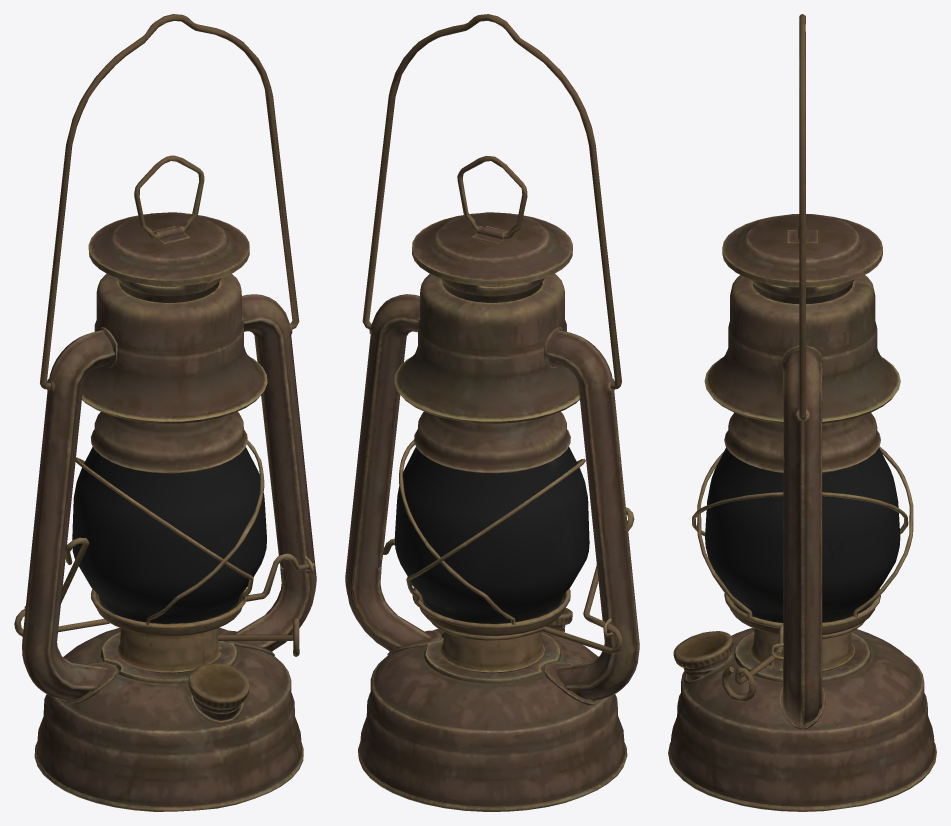
Rendered from Lantern_01.glb.
3 views of the same model, side by side, from view 1: azimuth 30°, elevation 25°; view 2: azimuth 150°, elevation 25°; view 3: azimuth 270°, elevation 25° (orthographic).
Parts seen in each view (by area): view 1: Lantern_01, Lantern_01_glass; view 2: Lantern_01, Lantern_01_glass; view 3: Lantern_01, Lantern_01_glass.
Part boxes in pixels (<box>): Lantern_01: <box>14,14,316,811</box>; Lantern_01_glass: <box>72,446,266,623</box>; Lantern_01: <box>345,14,639,811</box>; Lantern_01_glass: <box>394,447,589,623</box>; Lantern_01: <box>668,14,936,811</box>; Lantern_01_glass: <box>705,447,900,622</box>.
Size of the model in its own units: 0.1221 by 0.2942 by 0.0971.
Materials: 2 (2 with a texture image).
